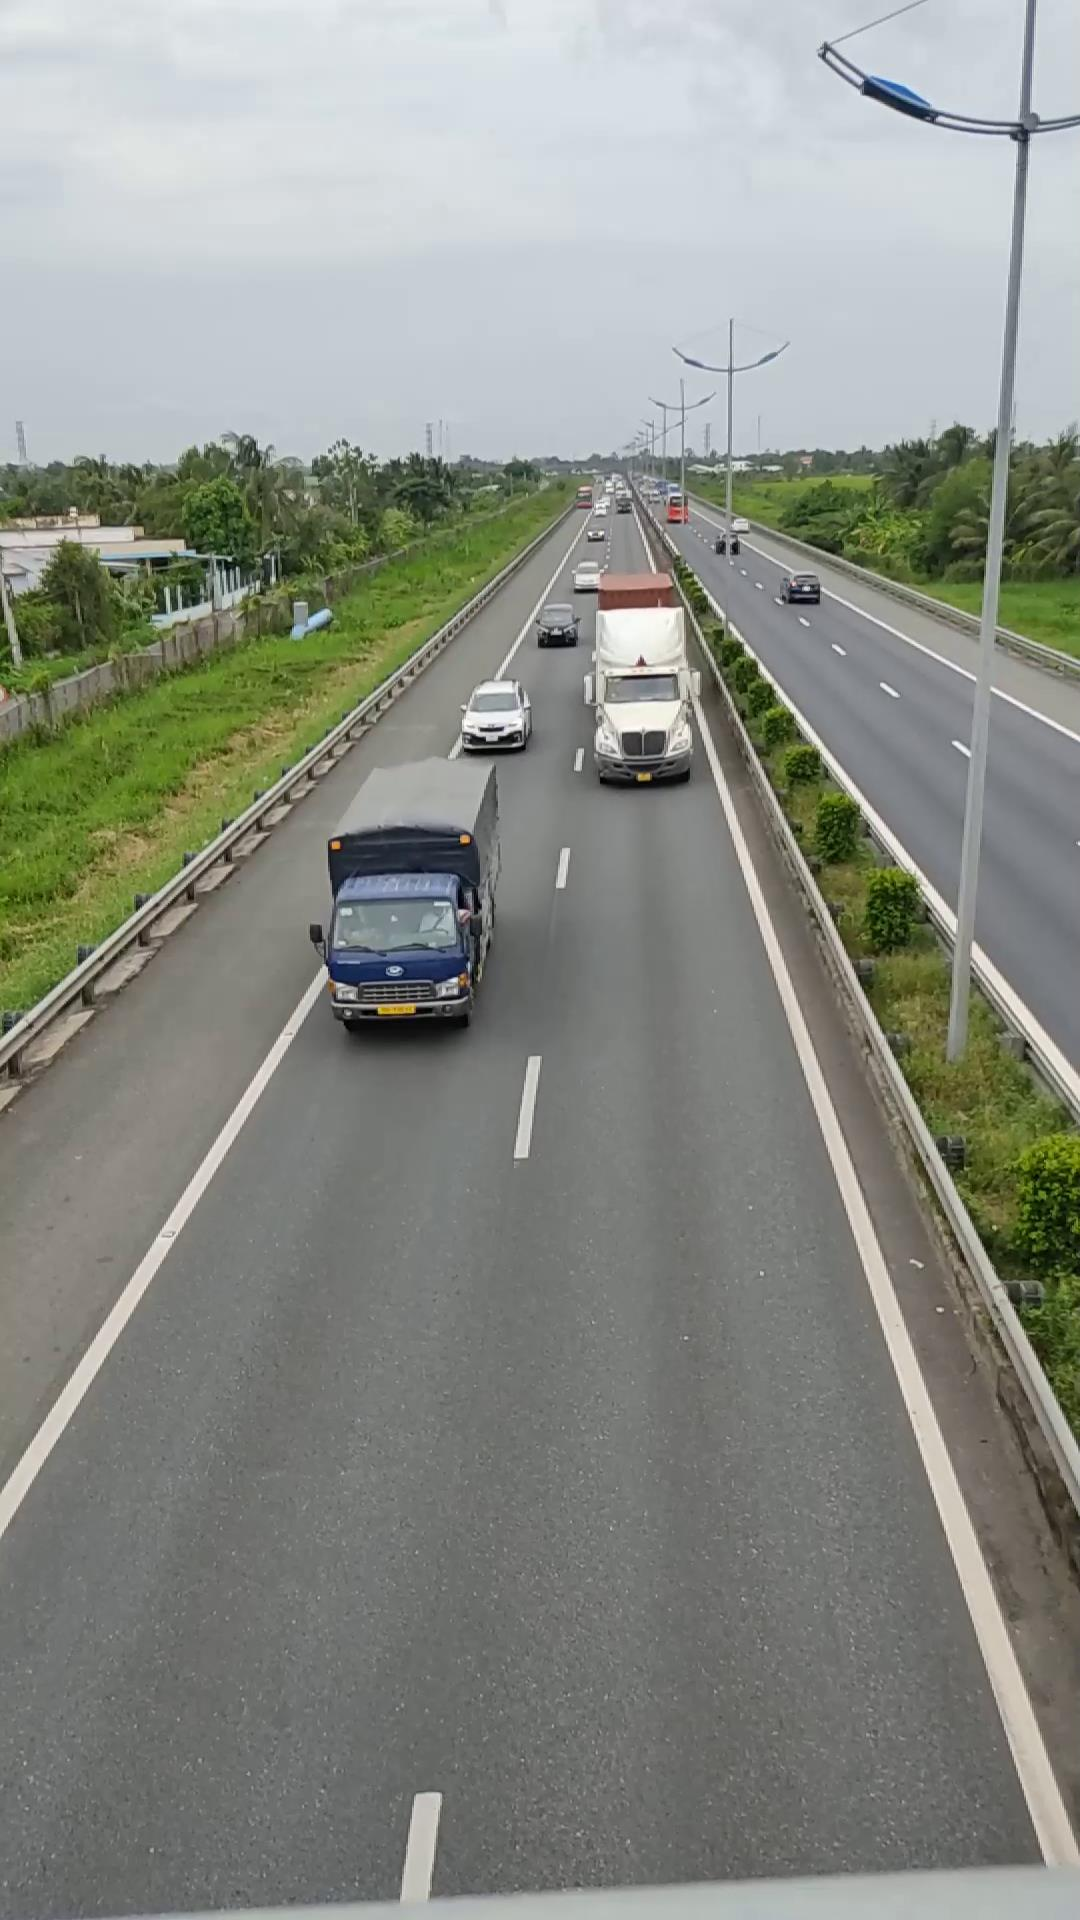car: (458, 676, 534, 752)
container: (582, 566, 698, 785)
truck: (316, 753, 504, 1031)
